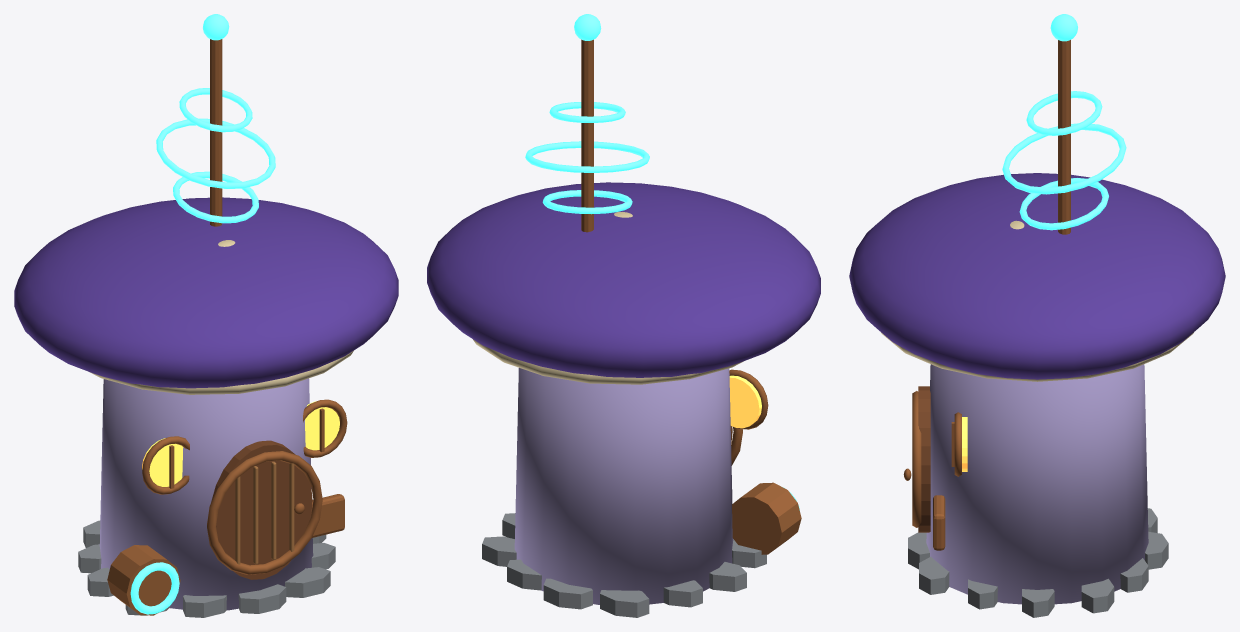
Rendered from mycelium_relay_hut.glb.
The picture shows the model from 3 angles, left to right: view 1: azimuth 30°, elevation 25°; view 2: azimuth 150°, elevation 25°; view 3: azimuth 270°, elevation 25°; orthographic projection. The views are drawn at different scales.
Visible parts, largest first — view 1: mushroom_cap, organic_plaster_stem, round_door, door_copper_frame, cable_spool, relay_mast, relay_ring.001, cap_underside_rim, relay_ring, cable_coil, foundation_stone_10, foundation_stone_9 (+14 smaller); view 2: mushroom_cap, organic_plaster_stem, cable_spool, relay_mast, cap_underside_rim, relay_ring.001, round_window, foundation_stone_4, relay_ring, foundation_stone_3, relay_ring.002, foundation_stone_6 (+6 smaller); view 3: mushroom_cap, organic_plaster_stem, relay_mast, relay_ring.001, round_door, door_copper_frame, relay_ring, relay_ring.002, cap_underside_rim, foundation_stone_1, foundation_stone_10, foundation_stone_0 (+6 smaller).
Part boxes in pixels (left/top/right/bottom): mushroom_cap: left=14, top=197, right=398, bottom=388; organic_plaster_stem: left=99, top=378, right=313, bottom=610; round_door: left=211, top=440, right=312, bottom=579; door_copper_frame: left=207, top=451, right=322, bottom=574; cable_spool: left=107, top=545, right=180, bottom=615; relay_mast: left=210, top=39, right=222, bottom=226; relay_ring.001: left=156, top=118, right=275, bottom=188; cap_underside_rim: left=90, top=350, right=353, bottom=394; relay_ring: left=173, top=171, right=258, bottom=223; cable_coil: left=130, top=562, right=179, bottom=614; foundation_stone_10: left=285, top=567, right=330, bottom=597; foundation_stone_9: left=238, top=584, right=286, bottom=613; mushroom_cap: left=427, top=182, right=820, bottom=377; organic_plaster_stem: left=514, top=368, right=733, bottom=604; cable_spool: left=732, top=482, right=801, bottom=554; relay_mast: left=581, top=39, right=593, bottom=232; cap_underside_rim: left=473, top=339, right=743, bottom=384; relay_ring.001: left=525, top=141, right=649, bottom=172; round_window: left=729, top=375, right=761, bottom=428; foundation_stone_4: left=600, top=590, right=649, bottom=617; relay_ring: left=542, top=190, right=632, bottom=214; foundation_stone_3: left=543, top=578, right=592, bottom=609; relay_ring.002: left=549, top=102, right=625, bottom=122; foundation_stone_6: left=709, top=562, right=746, bottom=591; mushroom_cap: left=849, top=173, right=1225, bottom=379; organic_plaster_stem: left=926, top=364, right=1148, bottom=604; relay_mast: left=1058, top=40, right=1070, bottom=234; relay_ring.001: left=1002, top=123, right=1126, bottom=194; round_door: left=918, top=386, right=930, bottom=532; door_copper_frame: left=912, top=391, right=921, bottom=527; relay_ring: left=1019, top=178, right=1108, bottom=230; relay_ring.002: left=1026, top=91, right=1102, bottom=135; cap_underside_rim: left=881, top=332, right=1193, bottom=381; foundation_stone_1: left=1081, top=578, right=1114, bottom=613; foundation_stone_10: left=919, top=556, right=949, bottom=594; foundation_stone_0: left=1022, top=589, right=1054, bottom=617.
Size of the model in its own units: 5.3 by 7.96 by 4.9.
